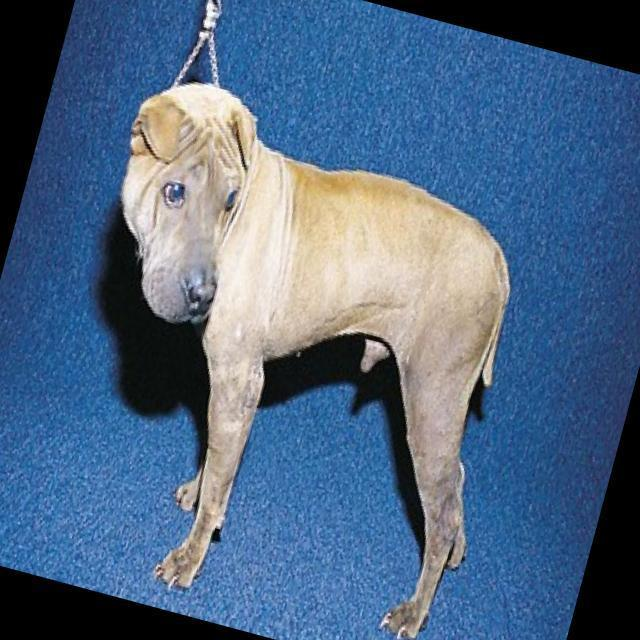allergic dermatitis: (412, 357, 458, 598)
